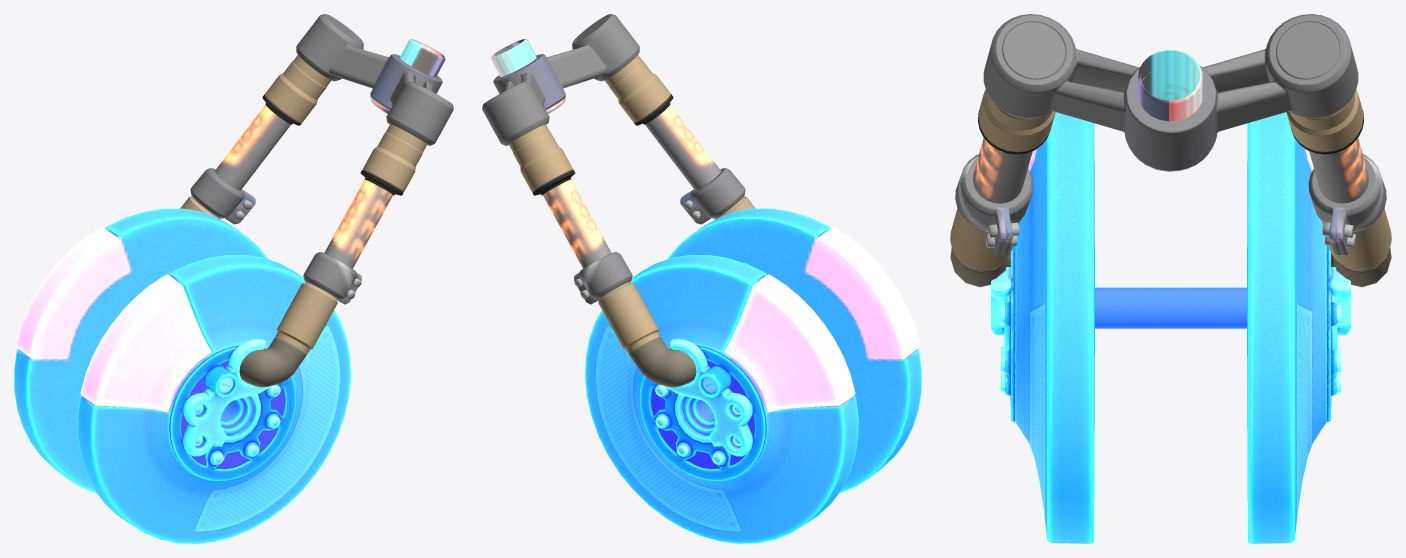
File: SM_CP_Motorcycle01_Wheel_Front.fbx
3 views of the same model, side by side, from view 1: azimuth 30°, elevation 25°; view 2: azimuth 150°, elevation 25°; view 3: azimuth 270°, elevation 25° (orthographic). The views are drawn at different scales.
Parts seen in each view (by area): view 1: SM_CP_Motorcycle01_Wheel_Front_LOD0; view 2: SM_CP_Motorcycle01_Wheel_Front_LOD0; view 3: SM_CP_Motorcycle01_Wheel_Front_LOD0.
Boxes of the visible parts, <box> form: SM_CP_Motorcycle01_Wheel_Front_LOD0: <box>14,14,453,543</box>; SM_CP_Motorcycle01_Wheel_Front_LOD0: <box>482,14,921,543</box>; SM_CP_Motorcycle01_Wheel_Front_LOD0: <box>950,14,1391,543</box>.
Bounding box in the file's own units: 73.29 × 45.92 × 74.64.
